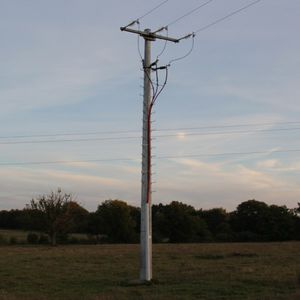utility_pole: (113, 14, 186, 101)
